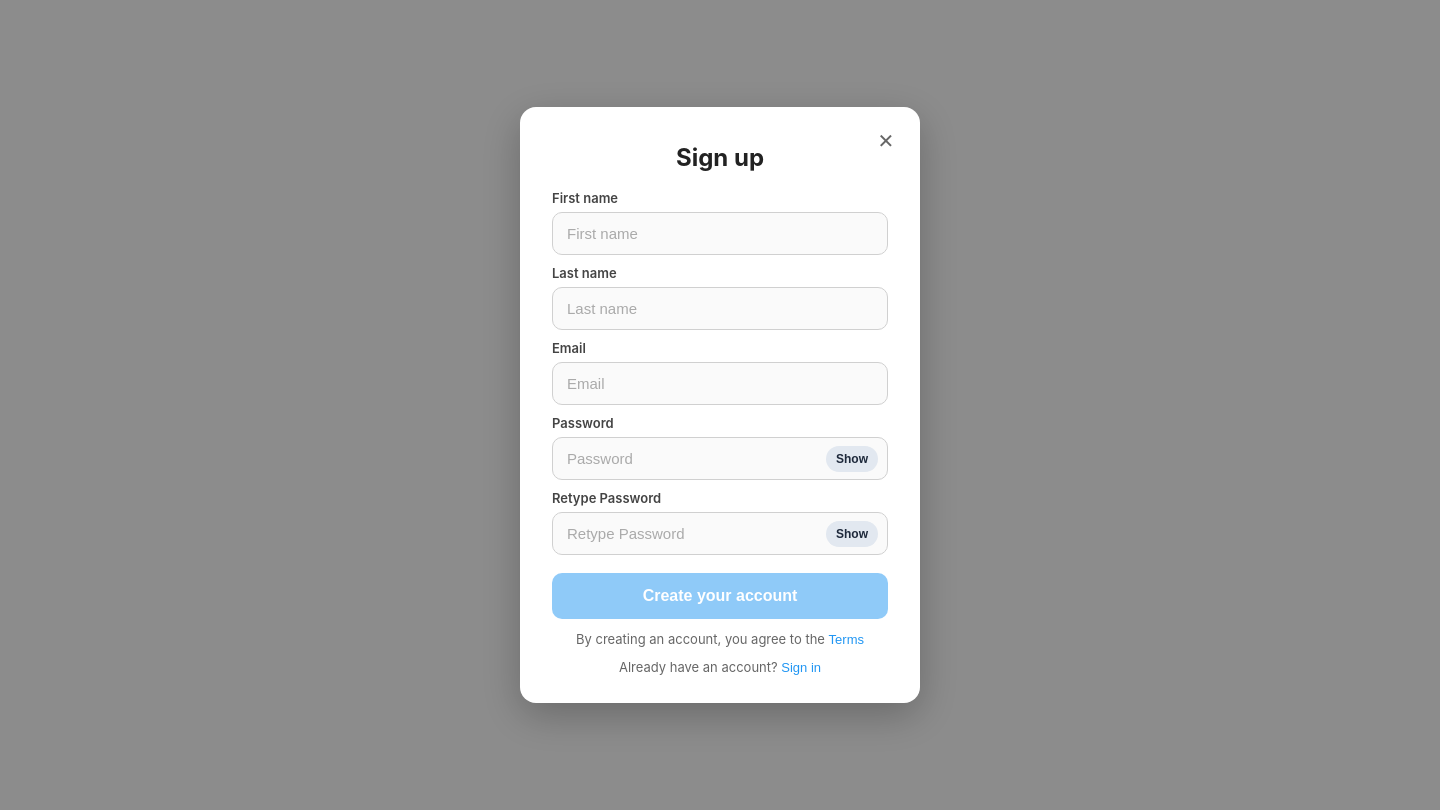
SignUp Component › shows password match status
Type "StrongPass1!" into the password field labelled "Password" at (720, 458), box left=552, top=437, right=888, bottom=480
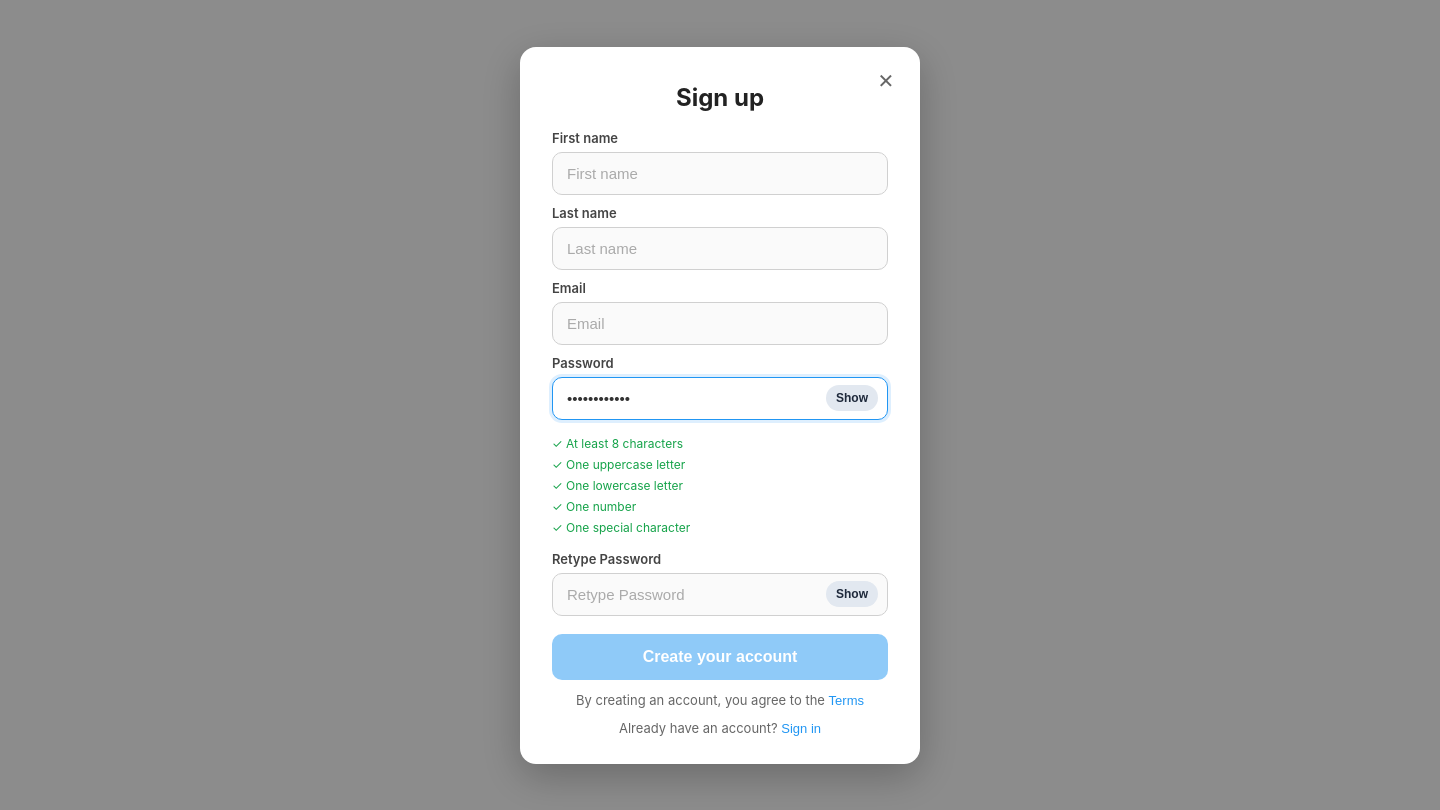
Type "StrongPass1!" into the password field labelled "Retype Password" at (720, 594), box left=552, top=572, right=888, bottom=616
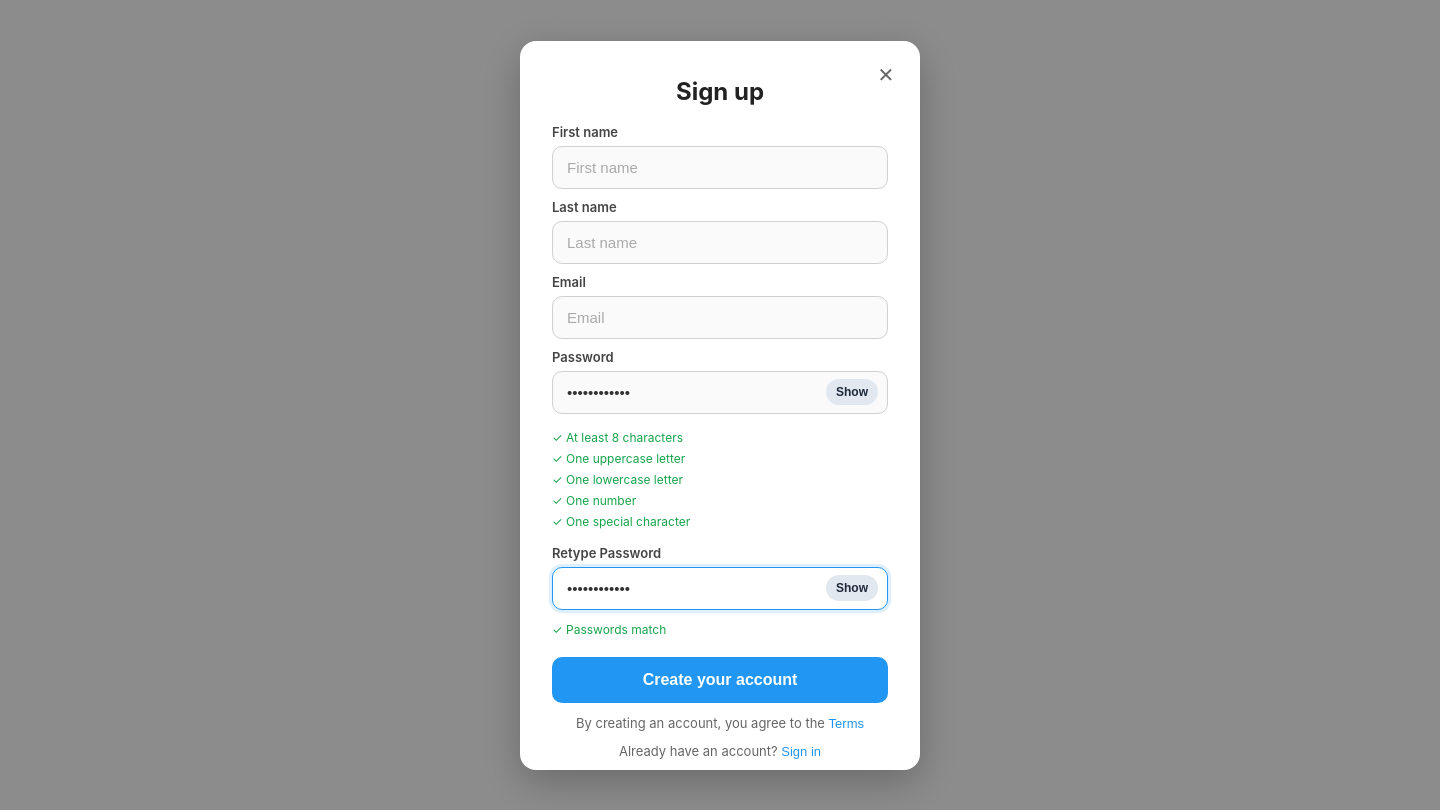
Check: the text "✓ Passwords match" is shown, box left=552, top=622, right=666, bottom=636
